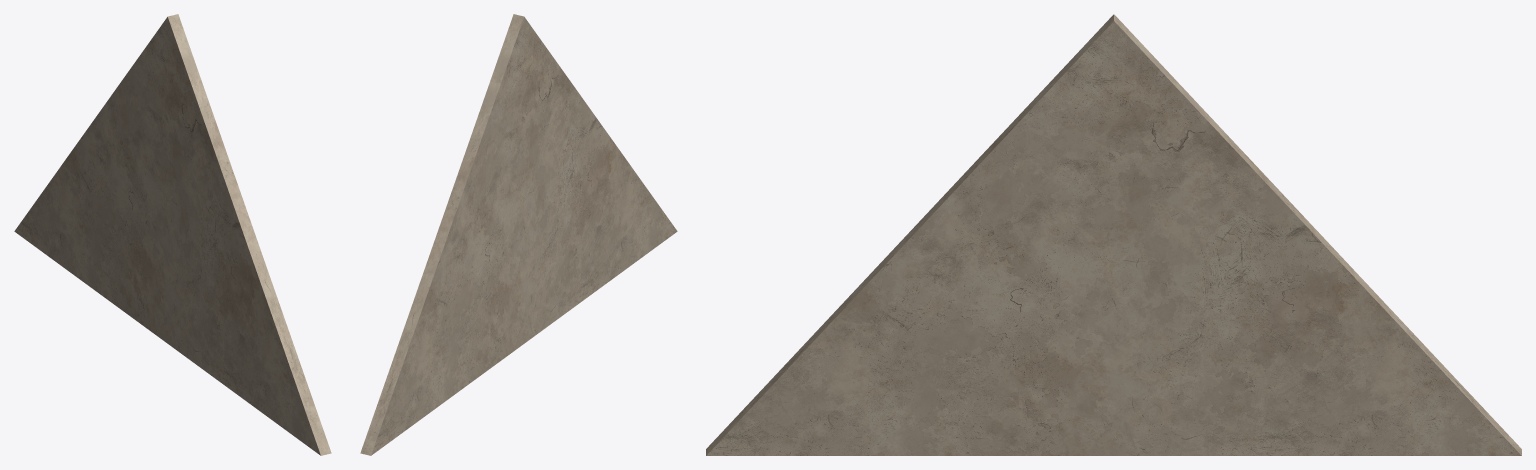
Rendered from SM_Wall_Top_01.fbx.
3 renders of one model, left to right at view 1: azimuth 30°, elevation 25°; view 2: azimuth 150°, elevation 25°; view 3: azimuth 270°, elevation 25°, orthographic. The views are drawn at different scales.
Parts seen in each view (by area): view 1: SM_Wall_Top_01_LOD0; view 2: SM_Wall_Top_01_LOD0; view 3: SM_Wall_Top_01_LOD0.
Boxes of the visible parts, left/top/right/bottom form: SM_Wall_Top_01_LOD0: left=14, top=14, right=331, bottom=455; SM_Wall_Top_01_LOD0: left=360, top=14, right=677, bottom=455; SM_Wall_Top_01_LOD0: left=706, top=14, right=1521, bottom=455.
Bounding box in the file's own units: 12.07 × 600 × 353.
